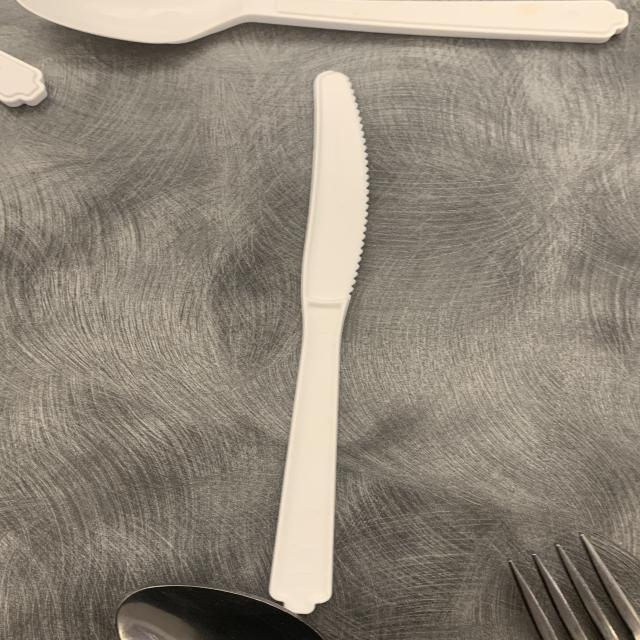knife: (258, 53, 384, 632)
spoon: (12, 0, 629, 56)
